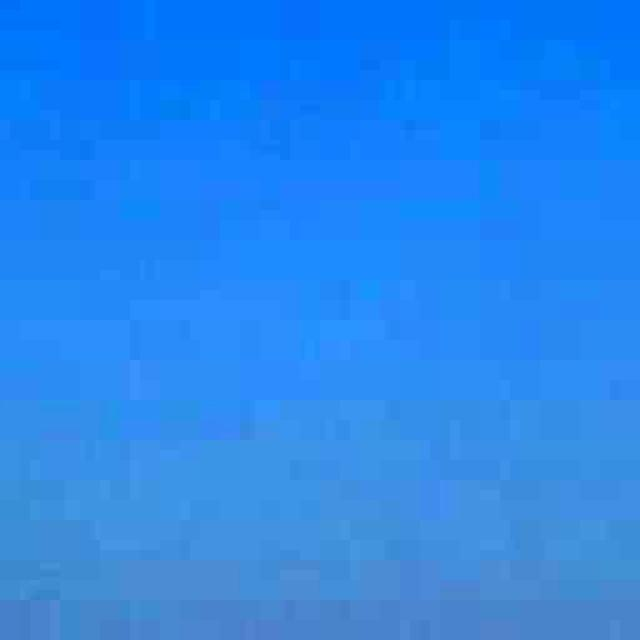bird: (496, 0, 581, 28)
